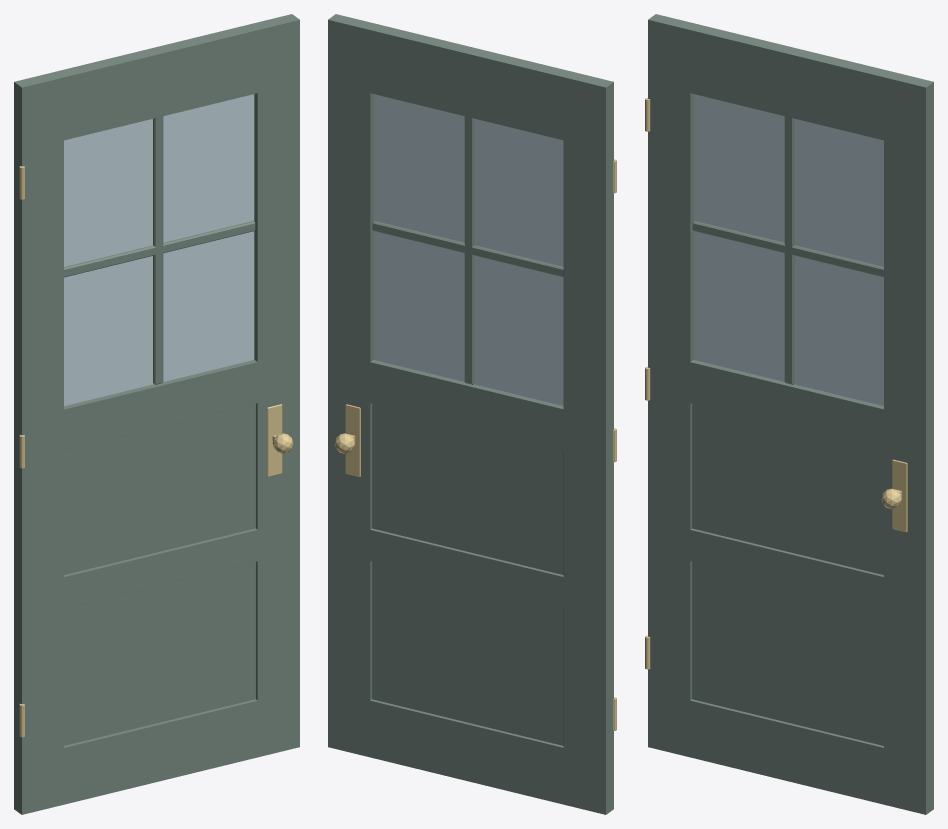
Rendered from door_leaf_back.glb.
The picture shows the model from 3 angles, left to right: view 1: azimuth 30°, elevation 25°; view 2: azimuth 150°, elevation 25°; view 3: azimuth 330°, elevation 25°; orthographic projection.
Parts seen in each view (by area): view 1: door_leaf_back_door, door_leaf_back_glass, door_leaf_back_brass; view 2: door_leaf_back_door, door_leaf_back_glass, door_leaf_back_brass; view 3: door_leaf_back_door, door_leaf_back_glass, door_leaf_back_brass.
Part boxes in pixels (bbox=[...]): door_leaf_back_door: bbox=[14, 14, 299, 814]; door_leaf_back_glass: bbox=[64, 94, 254, 405]; door_leaf_back_brass: bbox=[19, 166, 293, 737]; door_leaf_back_door: bbox=[328, 14, 613, 814]; door_leaf_back_glass: bbox=[373, 94, 563, 405]; door_leaf_back_brass: bbox=[334, 159, 616, 730]; door_leaf_back_door: bbox=[648, 14, 933, 814]; door_leaf_back_glass: bbox=[693, 94, 883, 405]; door_leaf_back_brass: bbox=[645, 98, 907, 669].
Size of the model in its own units: 0.928 by 2.3 by 0.205.
